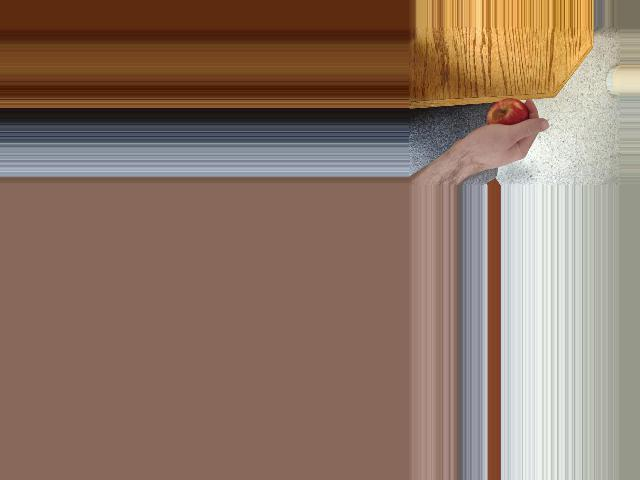apple: (484, 95, 530, 140)
